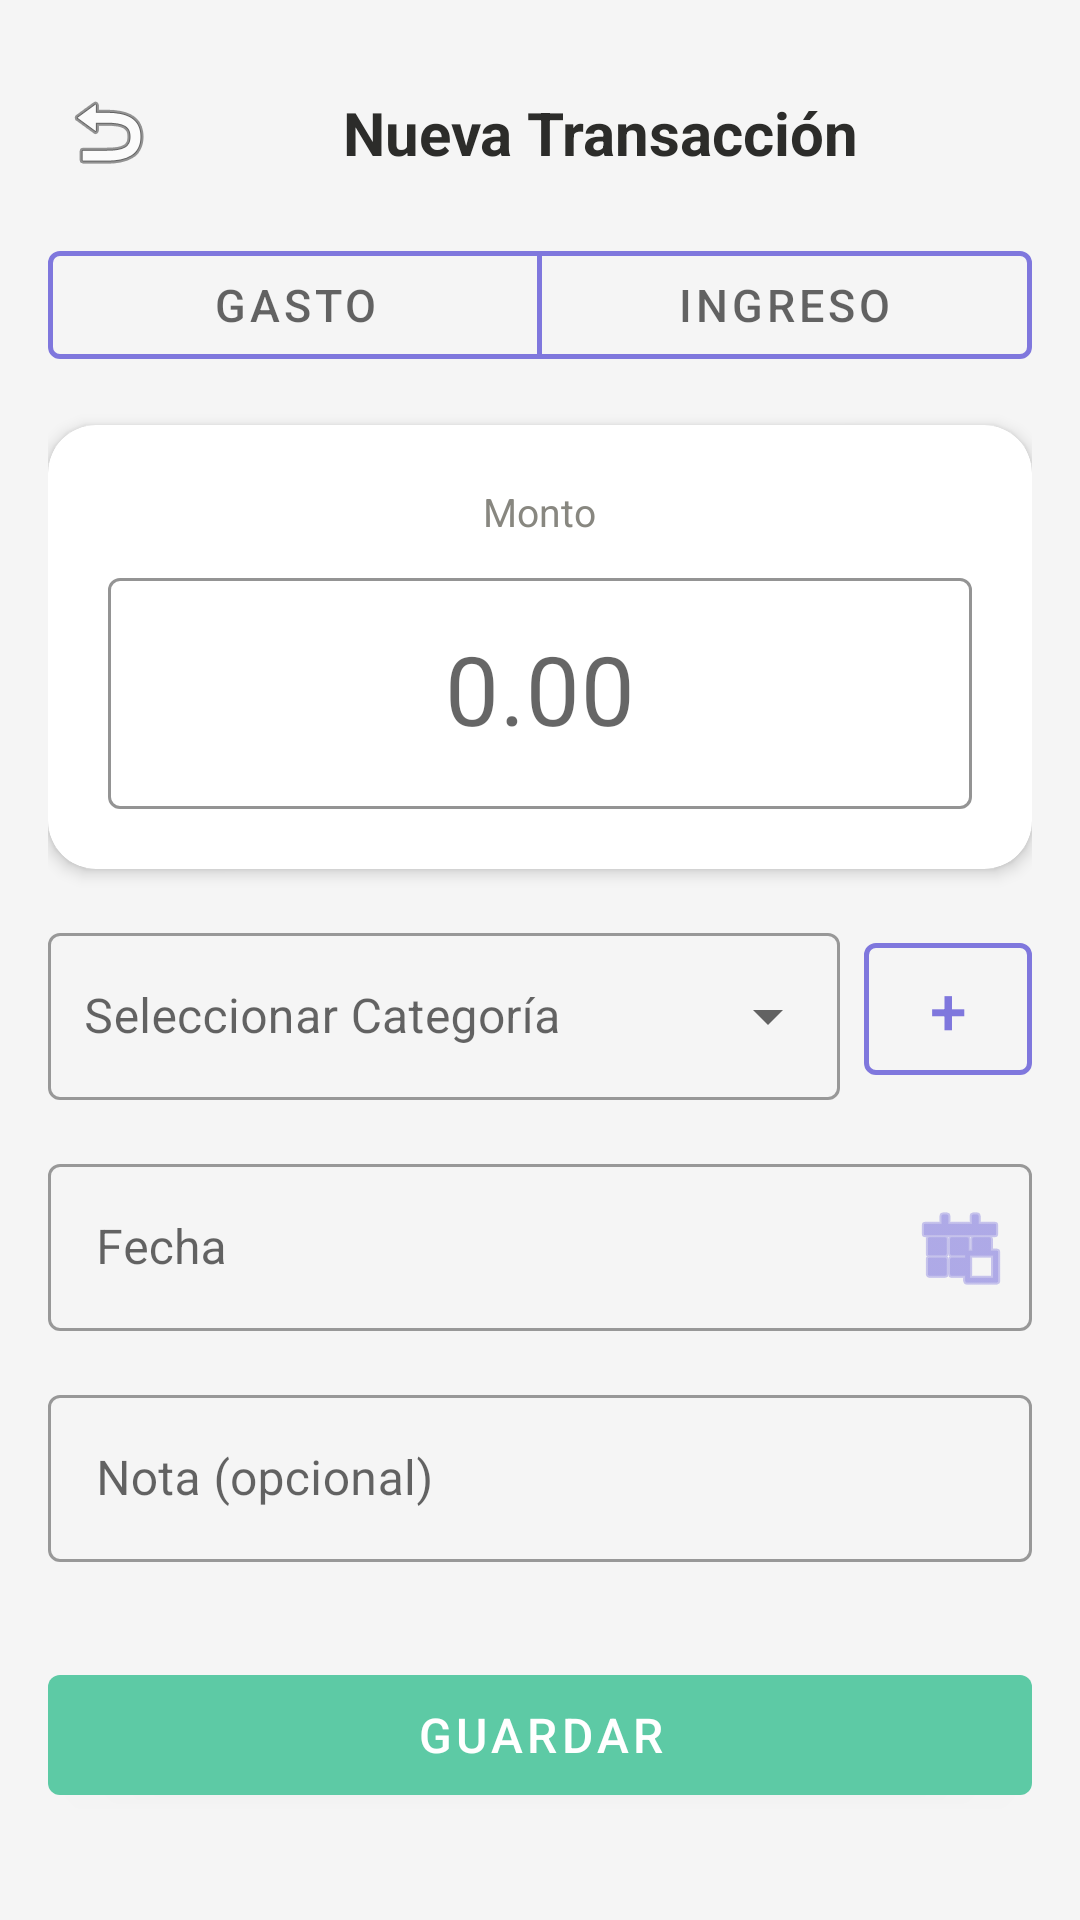

Icons on this 1080px×1920px Android screen, each with its box as (x1, y1, x2, y2):
Regresar: (75, 101, 144, 164)
